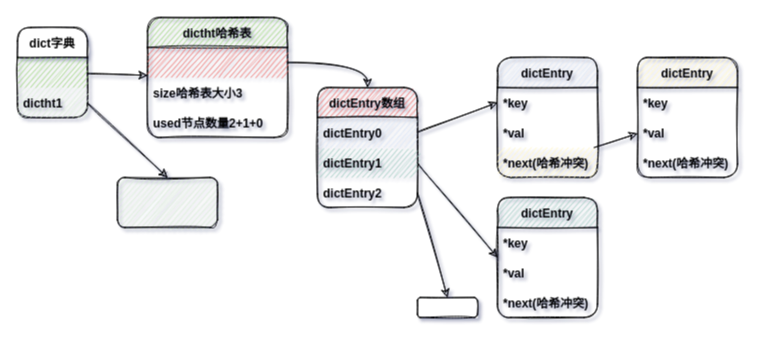
The diagram is 761 pixels wide and 341 high, and some of its shapes have lost their labels. Here are the shapes that lost their labels. From the top down, the centre of each, then its label:
the point at 52,72: dictht0
the point at 217,62: **table哈希表数组
the point at 167,202: null(rehash使用)
the point at 447,307: null
